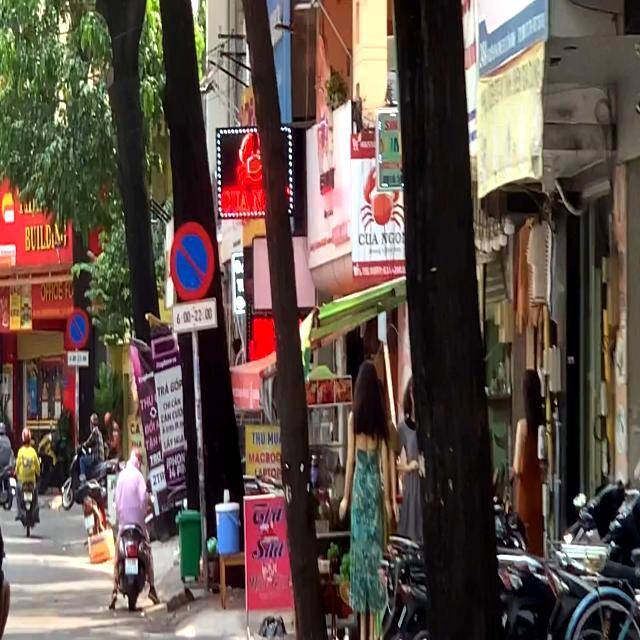Cam do xe: (170, 222, 215, 302), (66, 307, 90, 349)
